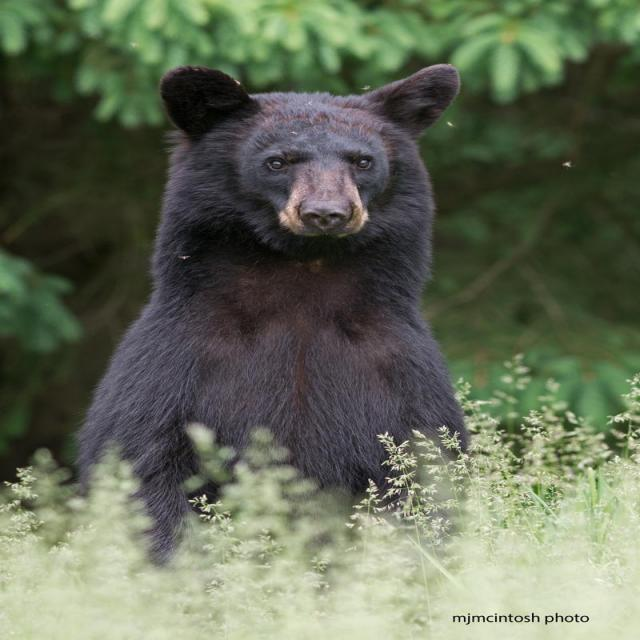Bear: (74, 63, 471, 570)
